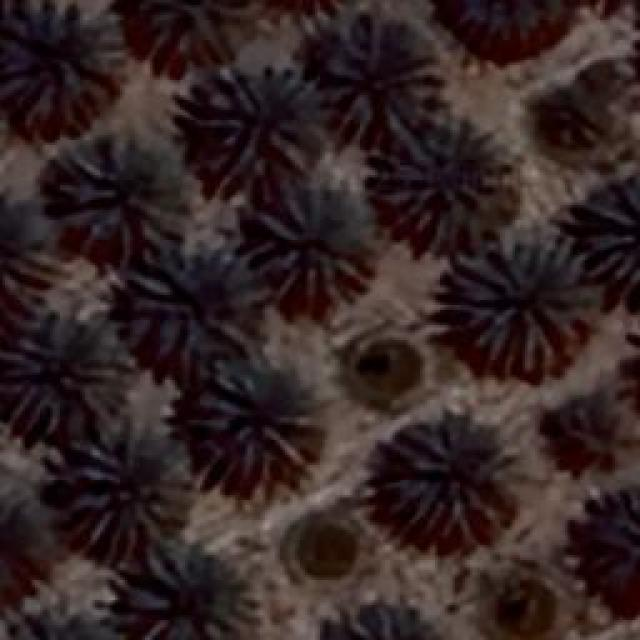PalmTree: (440, 230, 598, 375), (50, 132, 195, 258), (190, 355, 320, 490), (375, 121, 513, 246), (0, 2, 128, 130), (65, 422, 190, 550), (247, 182, 375, 302), (380, 412, 500, 538), (0, 310, 125, 425), (320, 22, 438, 142), (128, 248, 248, 360), (205, 65, 328, 173), (122, 544, 258, 638), (575, 481, 640, 619), (129, 0, 259, 62), (0, 470, 60, 600), (0, 182, 58, 312), (454, 0, 562, 65), (580, 186, 640, 286), (538, 72, 614, 148), (328, 595, 444, 640), (551, 388, 614, 464), (17, 607, 122, 640), (248, 0, 354, 30)
